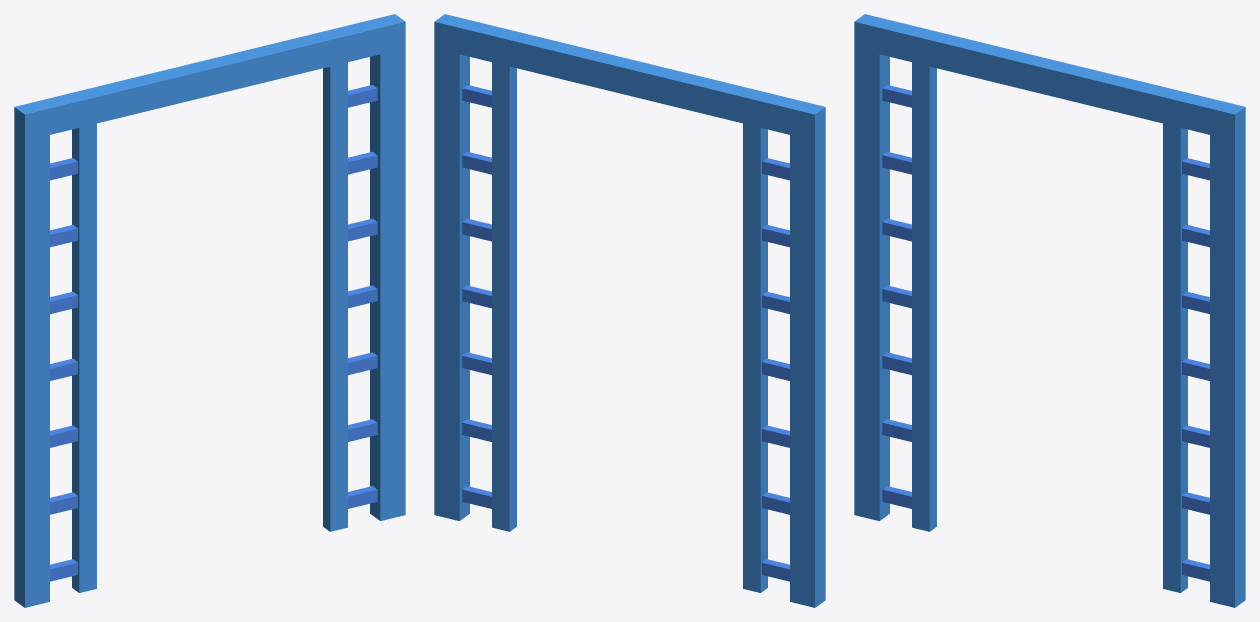
File: Fence_1_G_1.fbx
3 renders of one model, left to right at view 1: azimuth 30°, elevation 25°; view 2: azimuth 150°, elevation 25°; view 3: azimuth 330°, elevation 25°, orthographic.
Parts seen in each view (by area): view 1: Fence_1_G_1; view 2: Fence_1_G_1; view 3: Fence_1_G_1.
Part boxes in pixels (x1,y1,x2,y2): Fence_1_G_1: (14, 14, 405, 607); Fence_1_G_1: (434, 14, 825, 607); Fence_1_G_1: (854, 14, 1245, 607).
Bounding box in the file's own units: 200 × 248 × 9.6.
